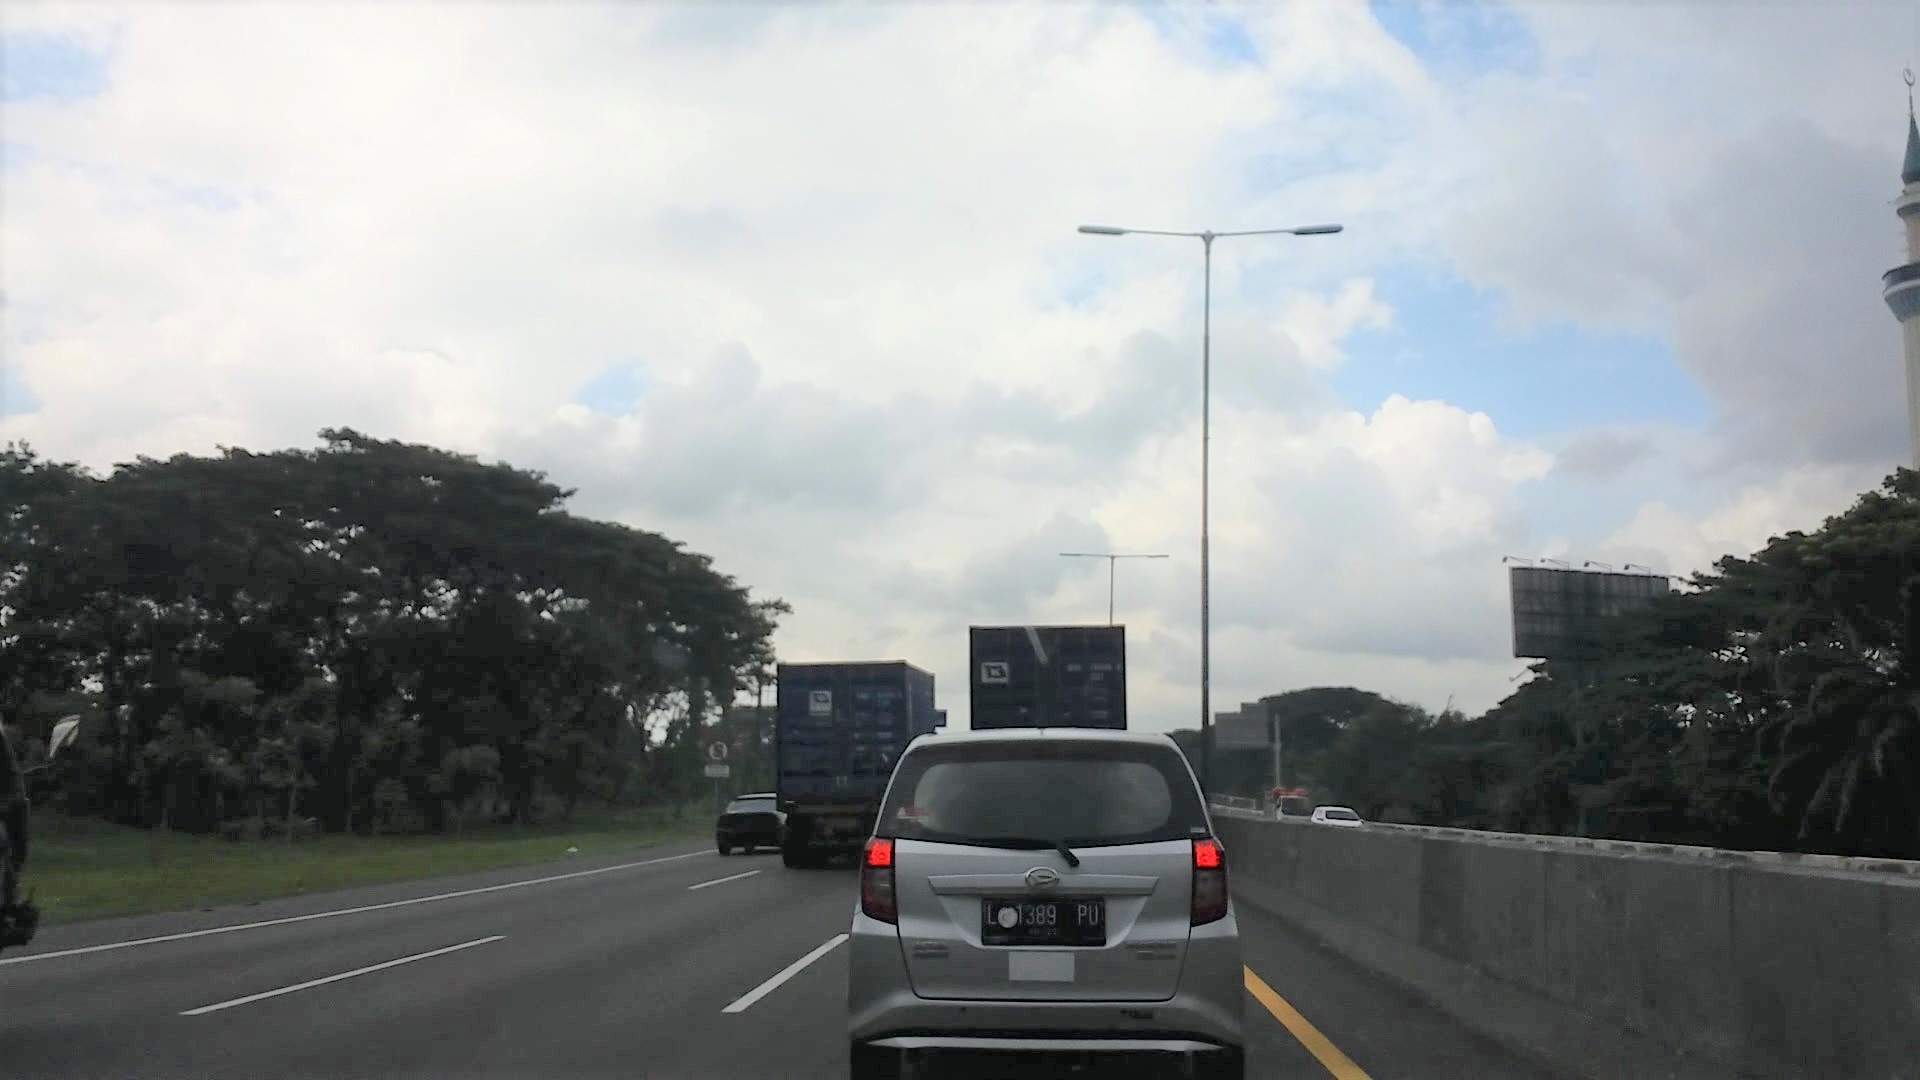plate_positive: (981, 895, 1106, 945)
